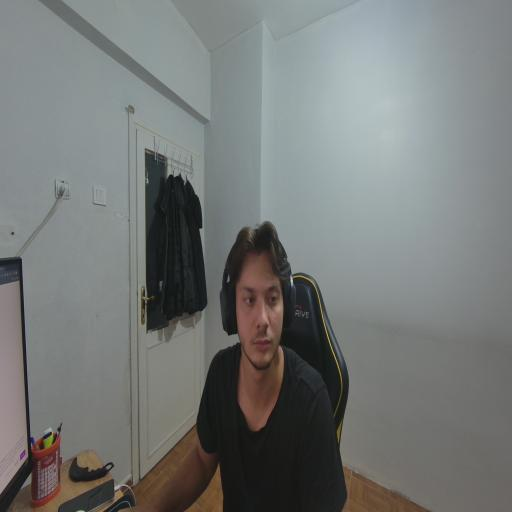cuma-face-v2: (214, 215, 305, 375)
